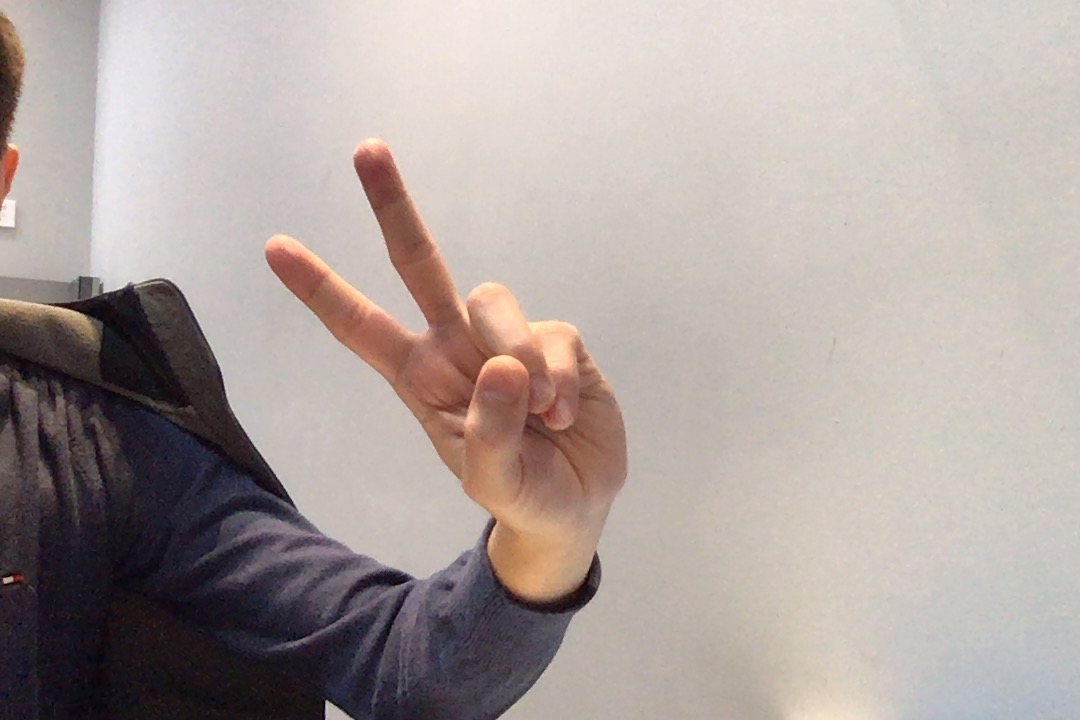peacesign: (254, 123, 645, 550)
